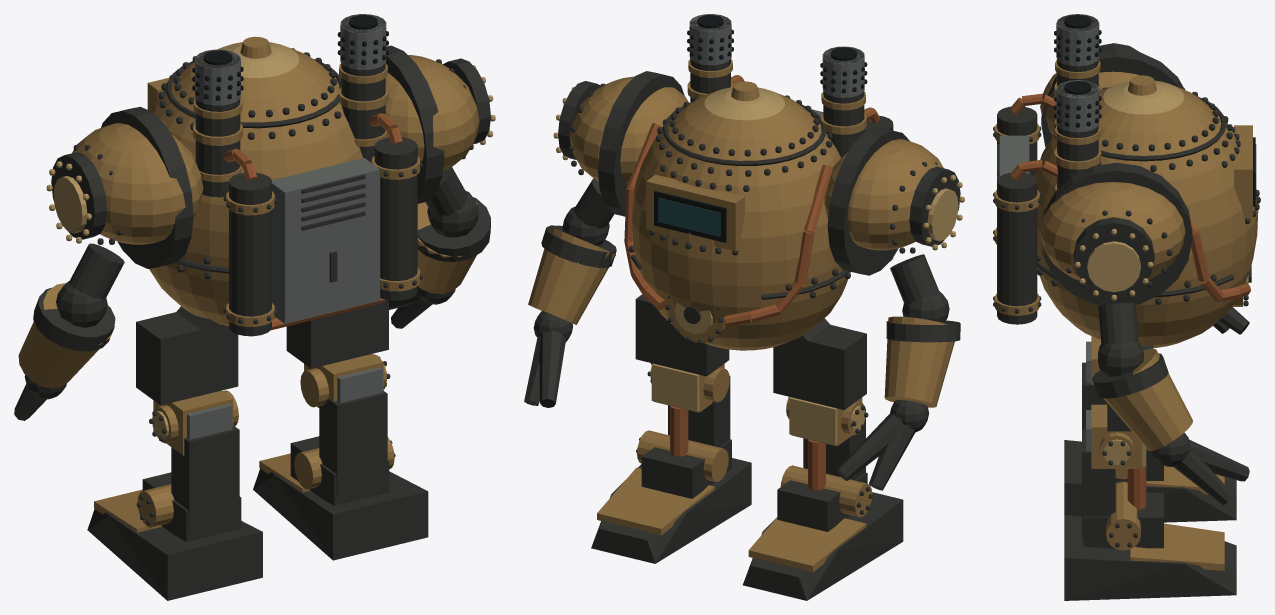
3 renders of one model, left to right at view 1: azimuth 30°, elevation 25°; view 2: azimuth 150°, elevation 25°; view 3: azimuth 270°, elevation 25°, orthographic. The views are drawn at different scales.
Size of the model in its own units: 3.57 by 4 by 1.99.
